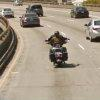Motorcycle: (42, 29, 81, 77)
